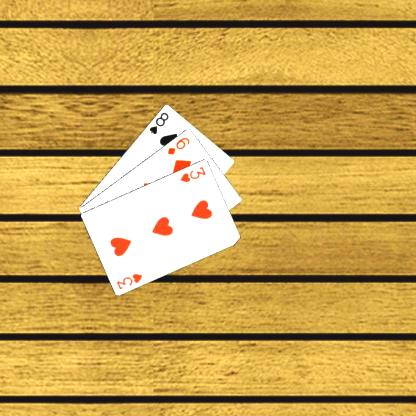3H: (178, 163, 208, 183), (114, 270, 144, 290)
6D: (165, 134, 191, 156)
8S: (146, 110, 170, 136)
